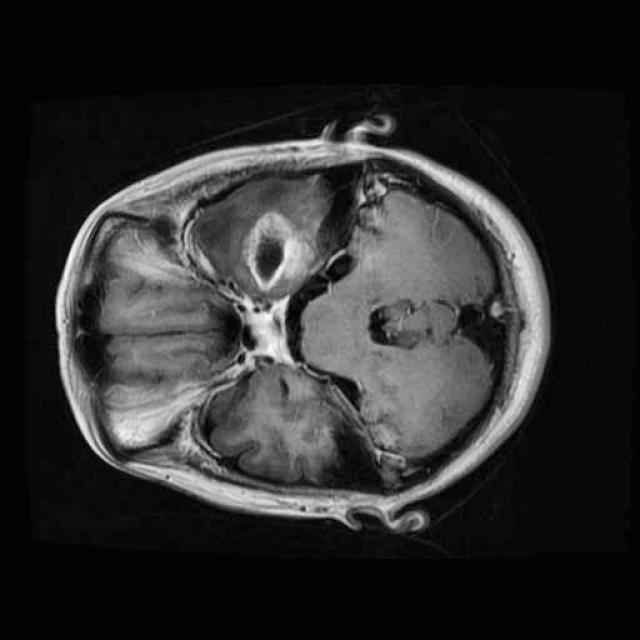Non-Tumor: (235, 200, 325, 301)
